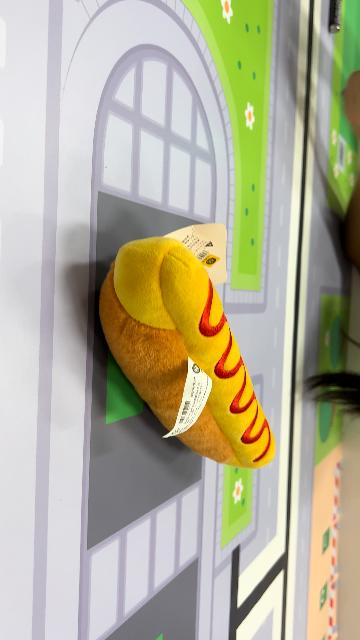hotdog: (98, 235, 278, 471)
